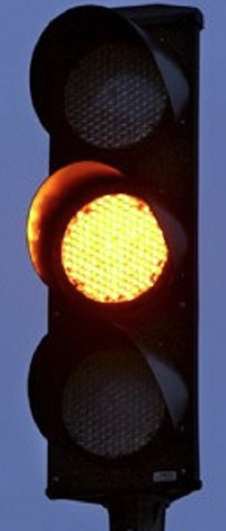yellow: (23, 2, 225, 511)
